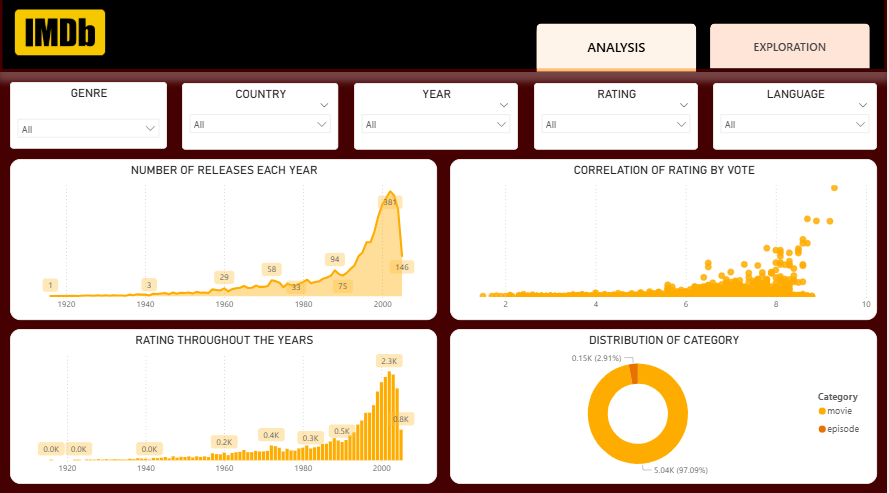

The page's visual inventory and layout, read from the dashboard file:
{"tool":"powerbi","page":{"name":"ANALYSIS","canvas":[1280,720],"ordinal":0},"visuals":[{"type":"shape","box":[0,0,1280,113],"z":0},{"type":"pageNavigator","box":[769.4,37.2,491,75.8],"z":1000},{"type":"image","box":[15.7,17.2,144.4,75.8],"z":2000},{"type":"slicer","title":"COUNTRY","fields":{"Values":["country_count.Value"]},"box":[264,127.6,225.2,95.9],"z":3000},{"type":"slicer","title":"YEAR","fields":{"Values":["cleaned_imdb_dataset.year"]},"box":[511.4,127.6,236.3,95.9],"z":4000},{"type":"donutChart","title":"DISTRIBUTION OF CATEGORY","fields":{"Category":["cleaned_imdb_dataset.category"],"Y":["CountNonNull(cleaned_imdb_dataset.category)"]},"box":[649.3,482,615,223.1],"z":5000},{"type":"lineClusteredColumnComboChart","title":"RATING THROUGHOUT THE YEARS","fields":{"Category":["cleaned_imdb_dataset.year"],"Y":["Sum(cleaned_imdb_dataset.rating)"]},"box":[15.7,482,615,223.1],"z":6000},{"type":"scatterChart","title":"CORRELATION OF RATING BY VOTE","fields":{"X":["Avg(cleaned_imdb_dataset.rating)"],"Y":["cleaned_imdb_dataset.vote"]},"box":[649.3,237.4,615,231.7],"z":7000},{"type":"slicer","title":"RATING","fields":{"Values":["cleaned_imdb_dataset.rating"]},"box":[770,127.6,236.3,95.9],"z":8000},{"type":"slicer","title":"LANGUAGE","fields":{"Values":["language_count.Value"]},"box":[1028.6,127.6,236.3,95.9],"z":9000},{"type":"areaChart","title":"NUMBER OF RELEASES EACH YEAR","fields":{"Category":["cleaned_imdb_dataset.year"],"Y":["CountNonNull(cleaned_imdb_dataset.id)"]},"box":[15.7,237.4,615,231.7],"z":10000},{"type":"slicer","title":"GENRE","fields":{"Values":["genre_count.Value"]},"box":[15.7,127.3,226,95.8],"z":11000}]}

Visuals, with their boxes in screenshot pixels (x1, y1, x2, y2), scaled from the page's 1280x720 canvas onto the 889x493 screenshot:
shape: 0 0 888 77
pageNavigator: 534 25 875 77
image: 11 12 111 64
"COUNTRY" slicer: 183 87 340 153
"YEAR" slicer: 355 87 519 153
"DISTRIBUTION OF CATEGORY" donutChart: 451 330 878 483
"RATING THROUGHOUT THE YEARS" lineClusteredColumnComboChart: 11 330 438 483
"CORRELATION OF RATING BY VOTE" scatterChart: 451 163 878 321
"RATING" slicer: 535 87 699 153
"LANGUAGE" slicer: 714 87 879 153
"NUMBER OF RELEASES EACH YEAR" areaChart: 11 163 438 321
"GENRE" slicer: 11 87 168 153
